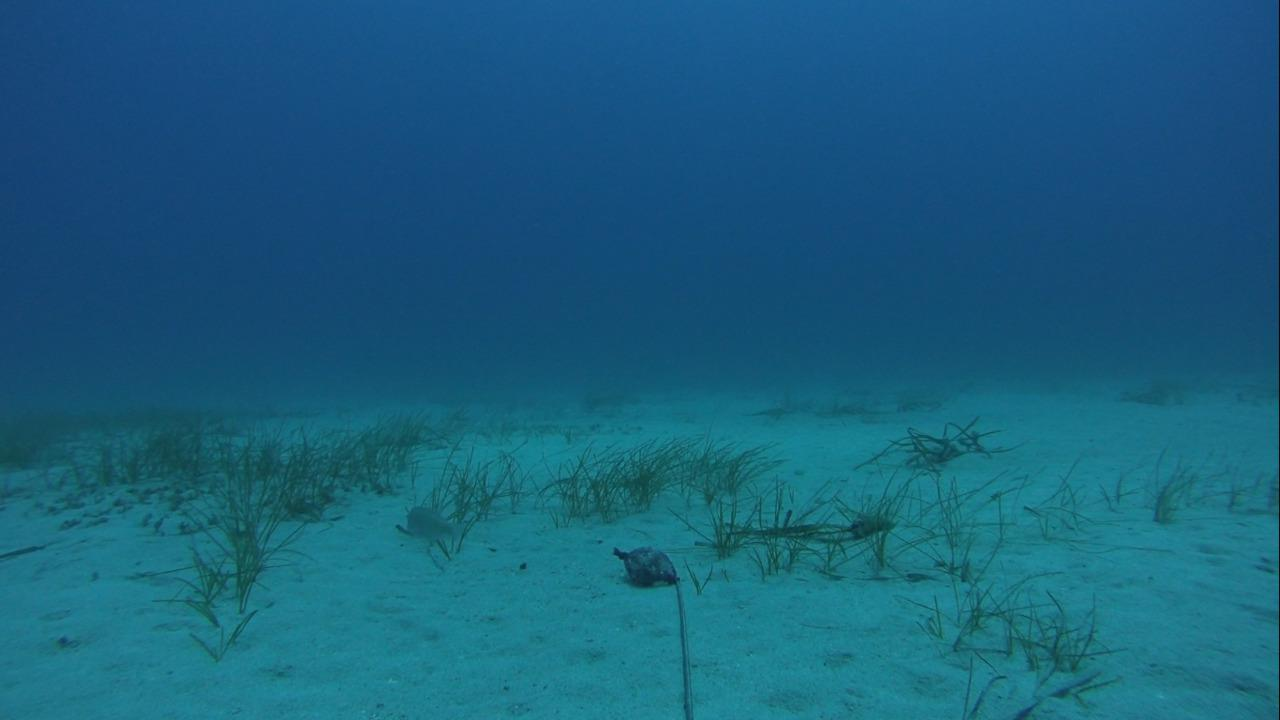raor: (399, 501, 467, 545)
